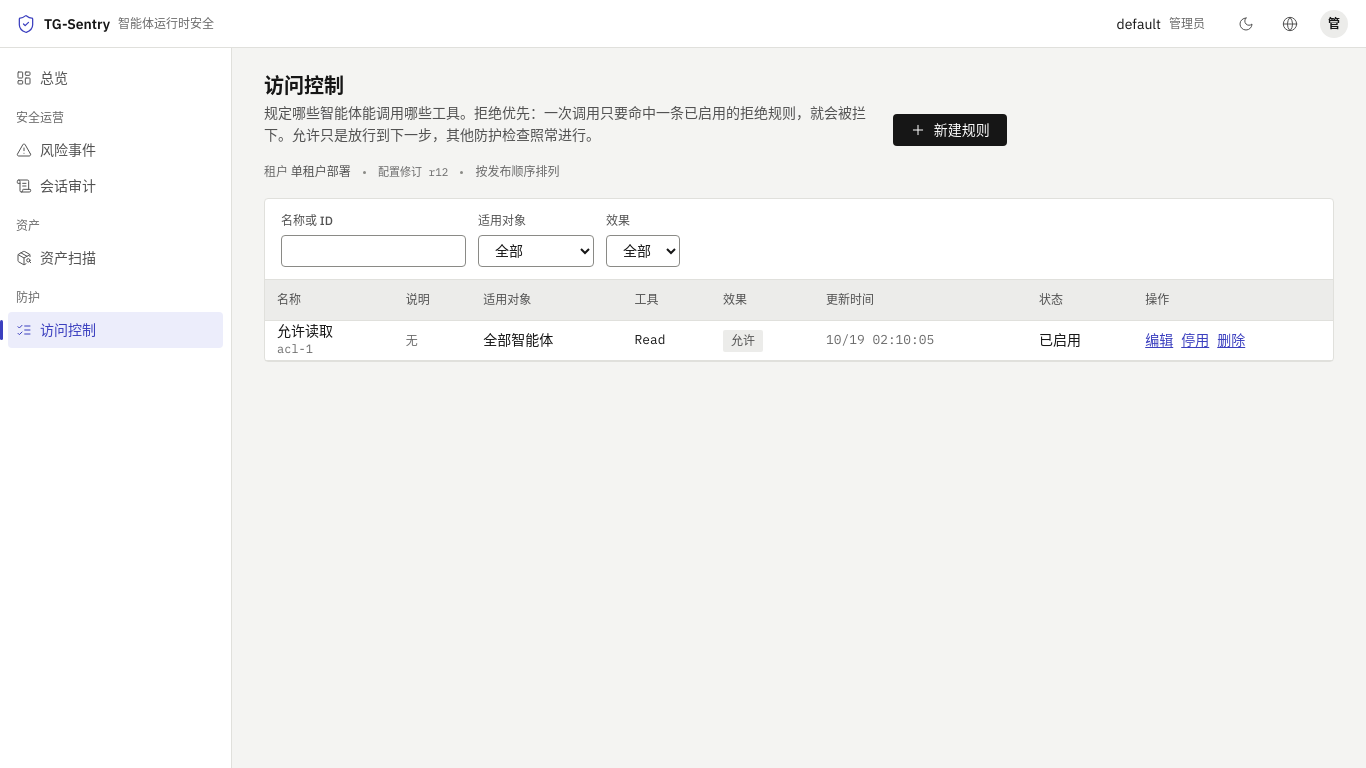
Scenario: ACL editor (#44 S5b) › says an allow rule still goes through the other protection checks
Step 1. Click the button "新建规则" → x=950, y=130, box left=893, top=114, right=1007, bottom=146
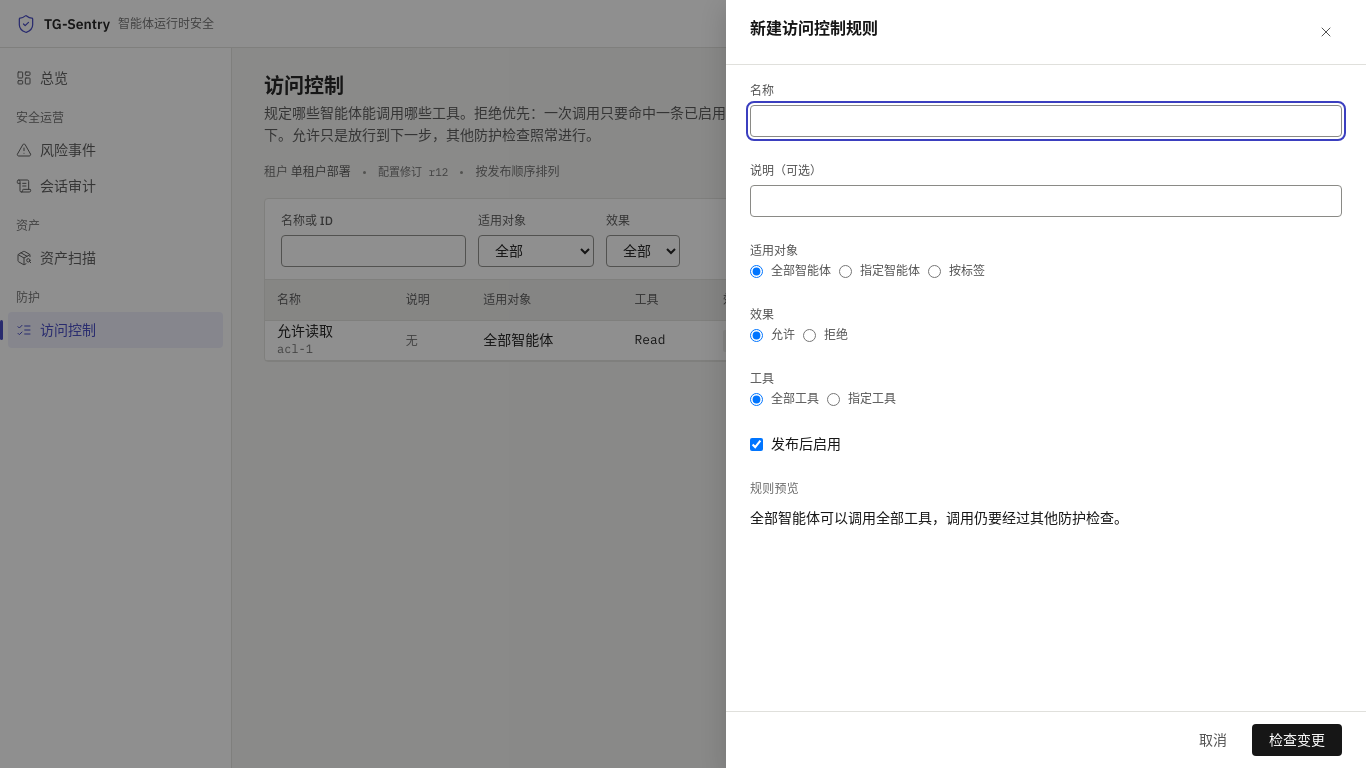
Expected: the text "全部智能体可以调用全部工具，调用仍要经过其他防护检查。" is shown, left=750, top=509, right=1128, bottom=527
